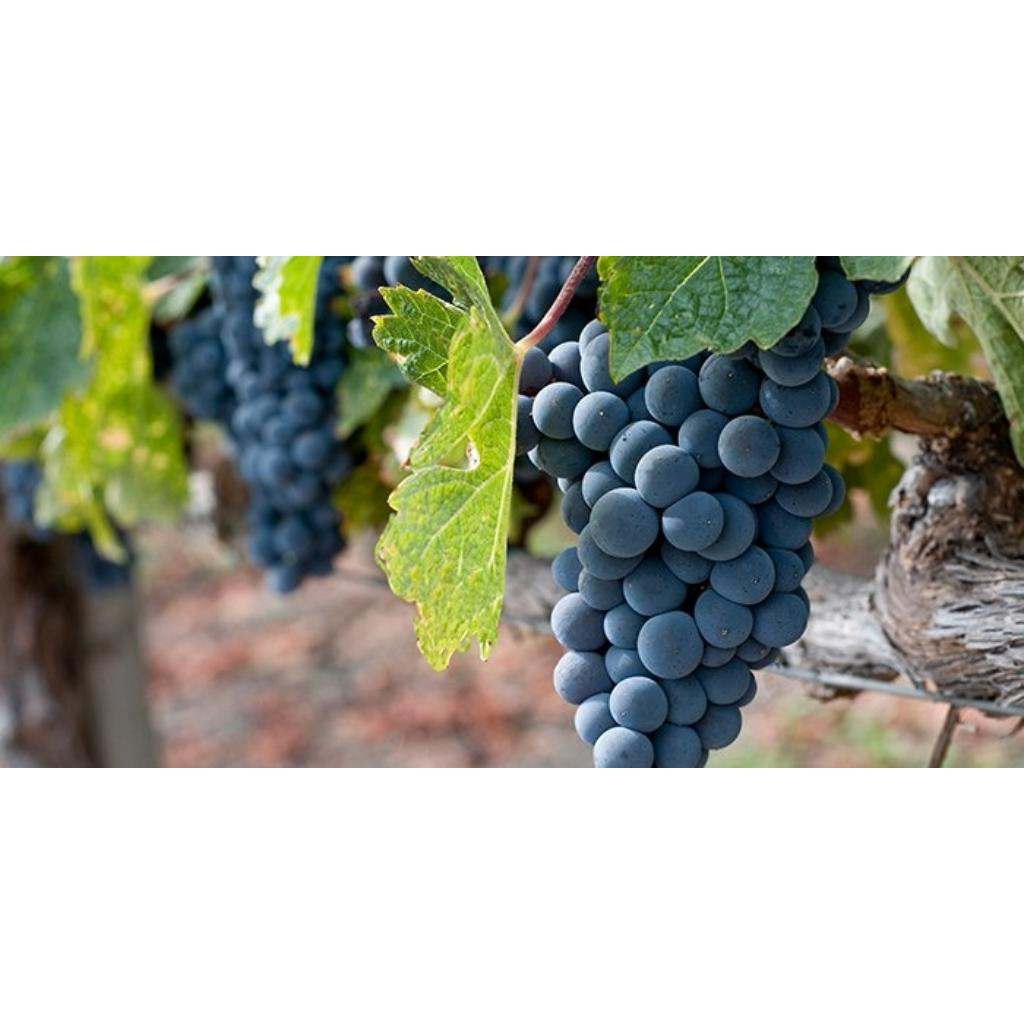grape: (513, 256, 867, 764), (167, 256, 350, 590)
